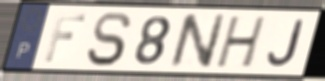8: (134, 14, 172, 66)
F: (41, 11, 89, 64)
H: (213, 14, 270, 70)
J: (266, 18, 307, 69)
N: (167, 12, 229, 71)
S: (83, 10, 135, 68)
